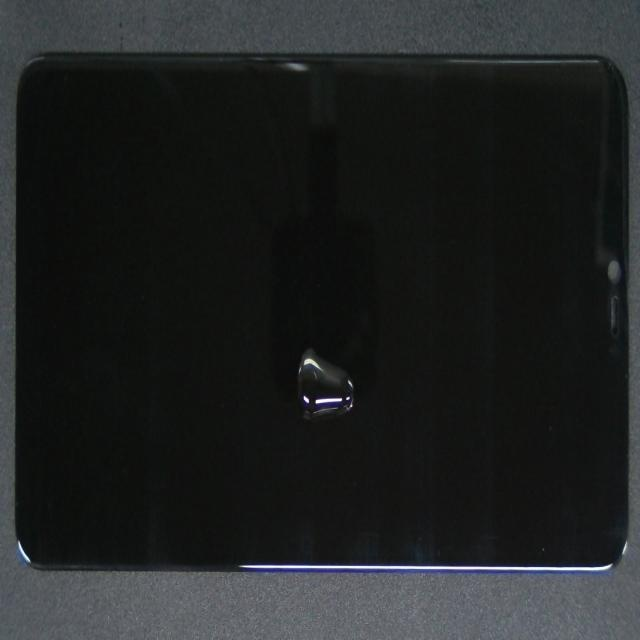oil: (194, 199, 519, 548)
